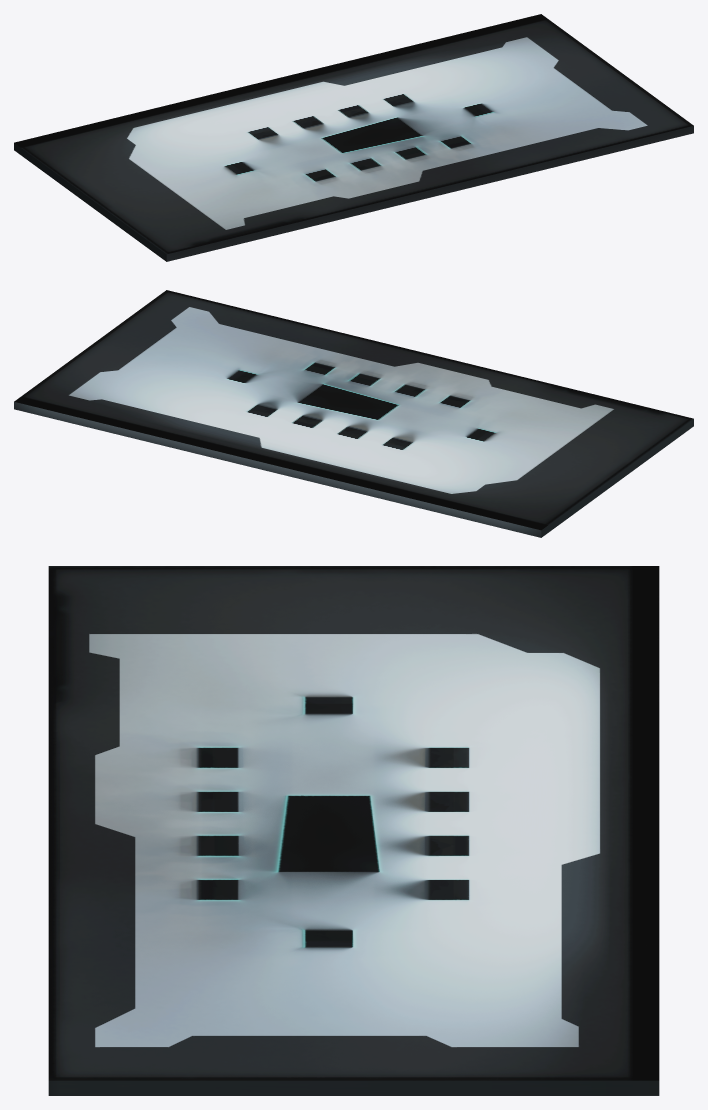
The model's file is SciFi_Conf_Room_Floor.FBX.
The picture shows the model from 3 angles, top to bottom: view 1: azimuth 30°, elevation 25°; view 2: azimuth 150°, elevation 25°; view 3: azimuth 270°, elevation 25°; orthographic projection. The views are drawn at different scales.
Visible parts, largest first — view 1: SciFi_Conf_Room_Floor; view 2: SciFi_Conf_Room_Floor; view 3: SciFi_Conf_Room_Floor.
Part boxes in pixels (x1,y1,x2,y2): SciFi_Conf_Room_Floor: (14,14,693,261); SciFi_Conf_Room_Floor: (14,290,693,537); SciFi_Conf_Room_Floor: (48,566,659,1095).
Size of the model in its own units: 11365 by 156 by 5699.
1 material, 1 textured.
